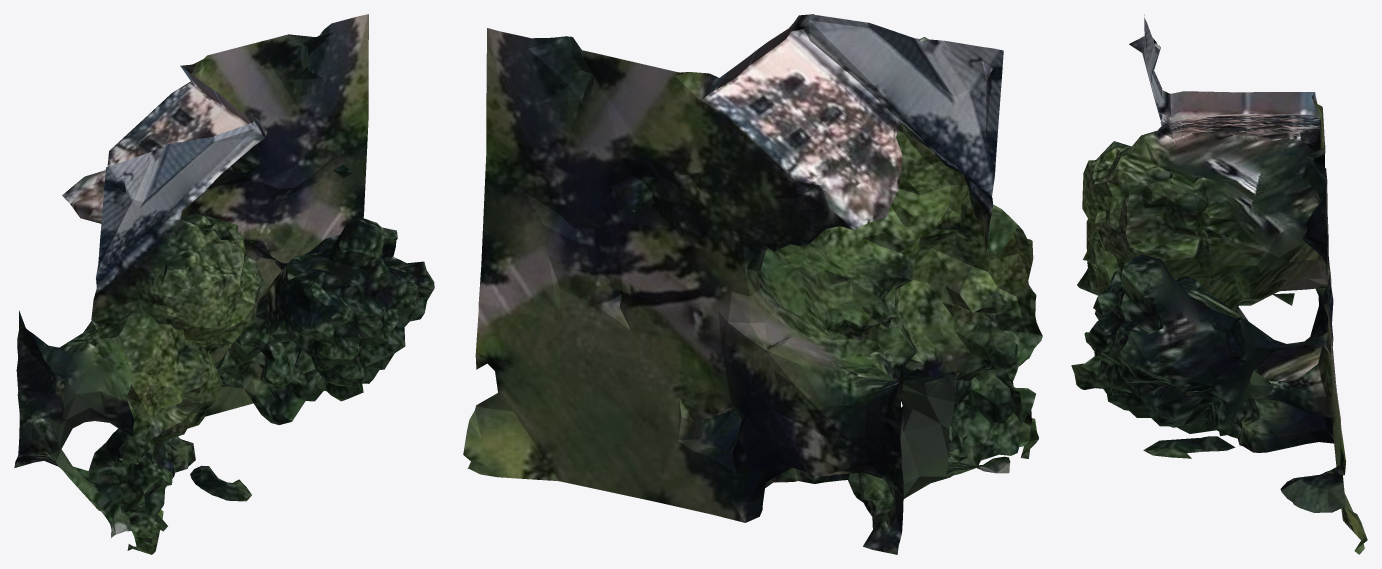
The model's file is Tile_+032_+023_L19_000011.obj.
3 renders of one model, left to right at view 1: azimuth 30°, elevation 25°; view 2: azimuth 150°, elevation 25°; view 3: azimuth 270°, elevation 25°, orthographic. The views are drawn at different scales.
Bounding box in the file's own units: 31.75 × 31.5 × 23.01.
1 material, 1 textured.
